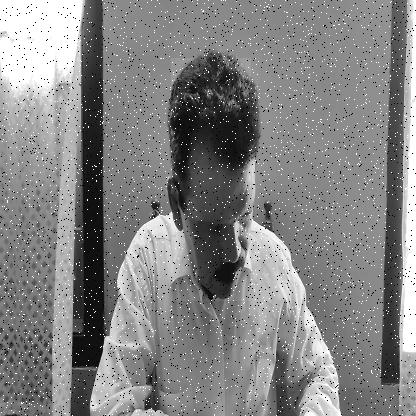Distracted: (171, 58, 251, 301)
